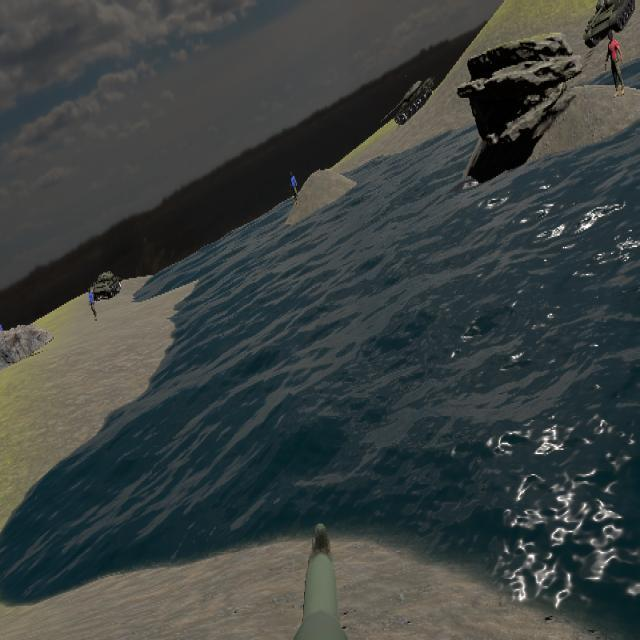Human: (605, 30, 625, 96)
Tank: (380, 76, 435, 127), (584, 0, 635, 48), (91, 268, 123, 301)
